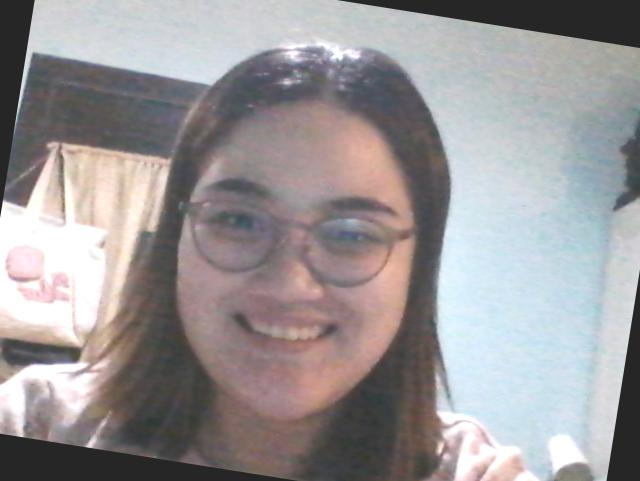senang: (134, 72, 443, 442)
